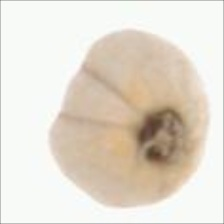L5: (55, 60, 146, 133), (136, 103, 192, 171)
L6: (44, 26, 211, 211)
